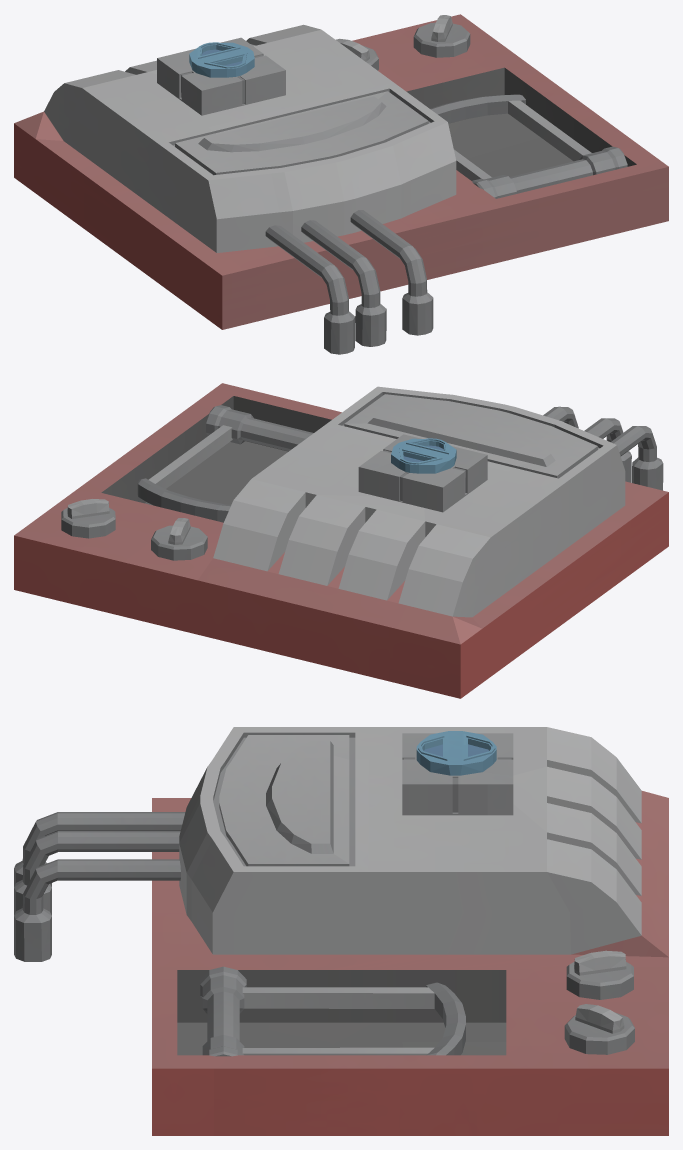
File: wall_machine.dae
3 views of the same model, one above another, from view 1: azimuth 30°, elevation 25°; view 2: azimuth 150°, elevation 25°; view 3: azimuth 270°, elevation 25° (orthographic). The views are drawn at different scales.
Visible parts, largest first — view 1: machine, lever, pipe_3, pipe_2, pipe_1, knob_2, knob_1; view 2: machine, lever, pipe_3, knob_2, knob_1, pipe_2; view 3: machine, lever, pipe_1, pipe_2, pipe_3, knob_2, knob_1.
Part boxes in pixels (left/top/right/bottom): machine: left=14, top=14, right=668, bottom=329; lever: left=430, top=94, right=627, bottom=198; pipe_3: left=265, top=225, right=355, bottom=354; pipe_2: left=301, top=220, right=386, bottom=346; pipe_1: left=350, top=210, right=433, bottom=335; knob_2: left=413, top=15, right=470, bottom=57; knob_1: left=336, top=38, right=378, bottom=70; machine: left=14, top=383, right=668, bottom=698; lever: left=137, top=405, right=313, bottom=522; pipe_3: left=611, top=426, right=663, bottom=490; knob_2: left=61, top=499, right=115, bottom=538; knob_1: left=151, top=518, right=207, bottom=560; pipe_2: left=584, top=418, right=631, bottom=482; machine: left=152, top=727, right=668, bottom=1135; lever: left=200, top=966, right=465, bottom=1056; pipe_1: left=14, top=859, right=180, bottom=961; pipe_2: left=14, top=831, right=180, bottom=915; pipe_3: left=14, top=812, right=185, bottom=886; knob_2: left=564, top=1004, right=634, bottom=1054; knob_1: left=566, top=950, right=633, bottom=999.
Bounding box in the file's own units: 0.647 × 0.662 × 0.2155.
